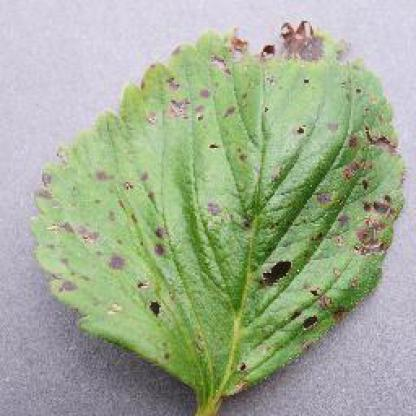leaf scorch: (27, 13, 410, 414)
